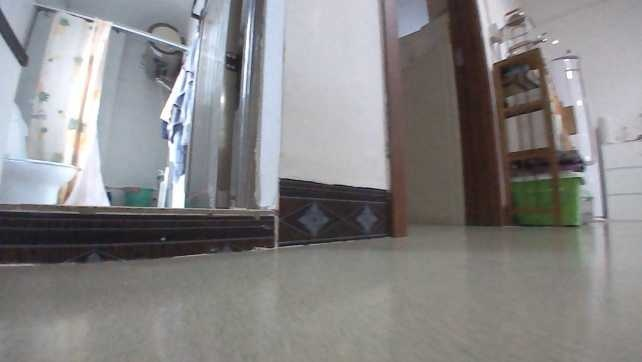door_sill: (0, 194, 280, 270)
toilet: (0, 151, 85, 204)
